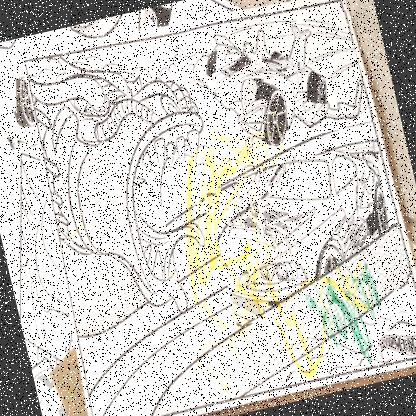Car: (203, 142, 410, 328), (186, 10, 371, 160), (0, 64, 42, 158)
